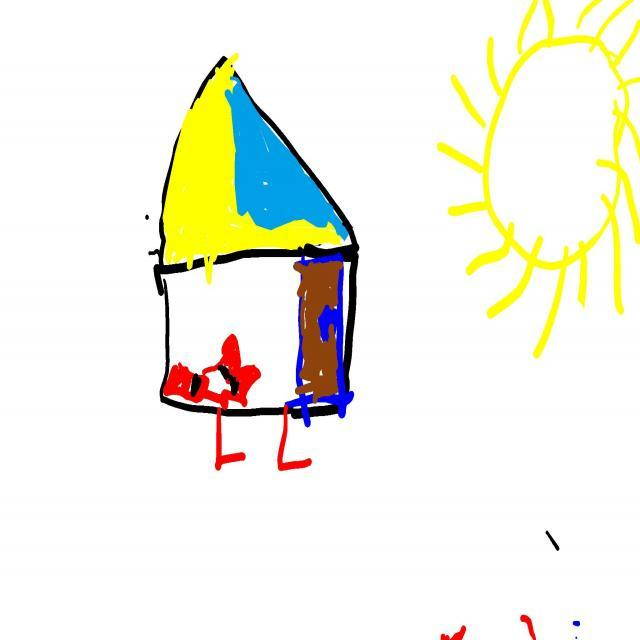door: (286, 255, 353, 427)
house: (154, 55, 359, 426)
roof: (163, 55, 351, 281)
sun: (439, 0, 640, 356)
wall: (141, 248, 358, 412)
